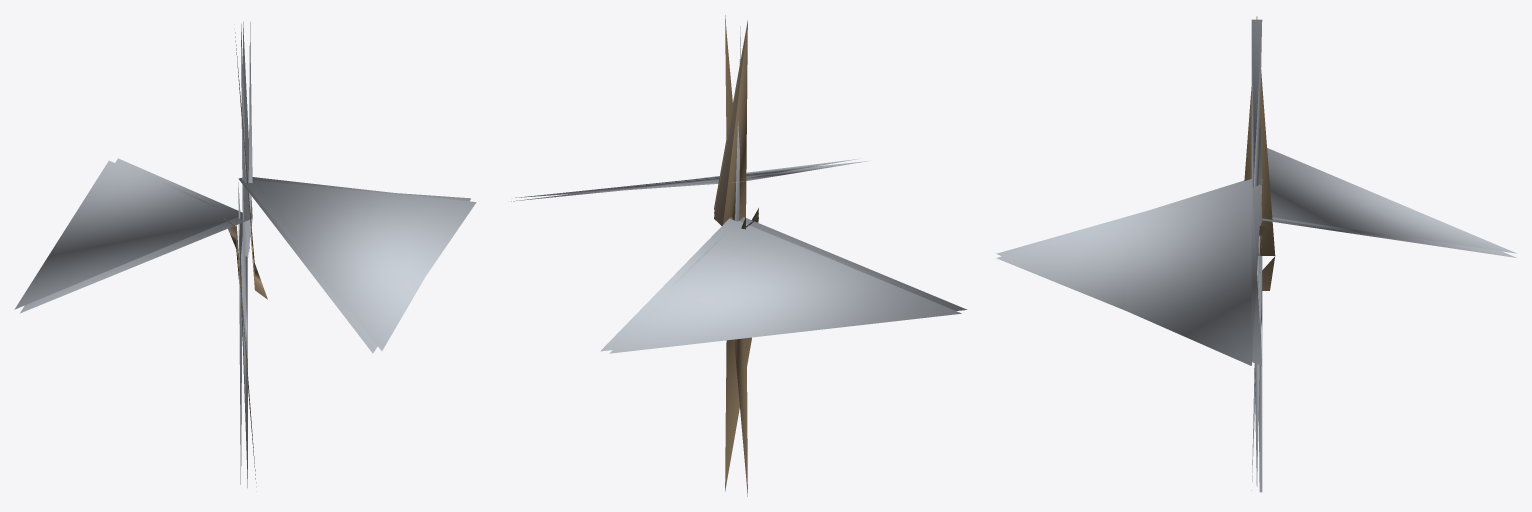
The model's file is equip_ammo_quiver_steel.glb.
The picture shows the model from 3 angles, left to right: view 1: azimuth 30°, elevation 25°; view 2: azimuth 150°, elevation 25°; view 3: azimuth 270°, elevation 25°; orthographic projection.
Parts seen in each view (by area): view 1: equip_ammo_quiver_steel; view 2: equip_ammo_quiver_steel; view 3: equip_ammo_quiver_steel.
Part boxes in pixels (x1,y1,x2,y2): equip_ammo_quiver_steel: [14, 21, 476, 487]; equip_ammo_quiver_steel: [508, 15, 967, 496]; equip_ammo_quiver_steel: [996, 16, 1516, 492].
Bounding box in the file's own units: 2 × 2 × 2.
